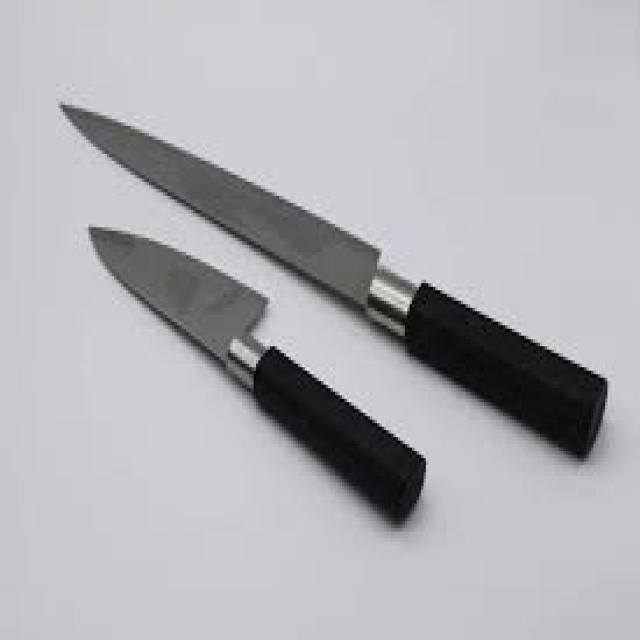Knife: (58, 98, 608, 458), (86, 220, 426, 525)
